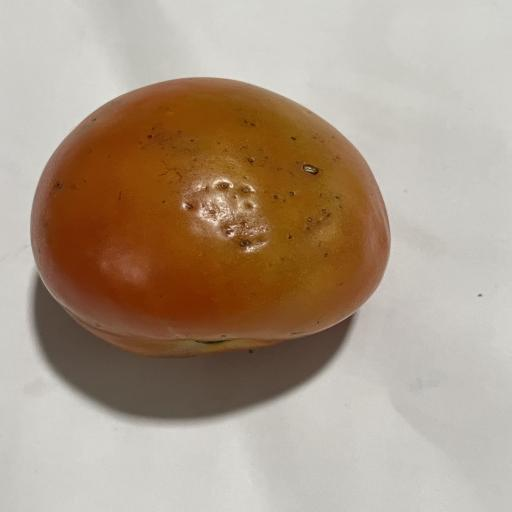unripe: (31, 78, 390, 357)
